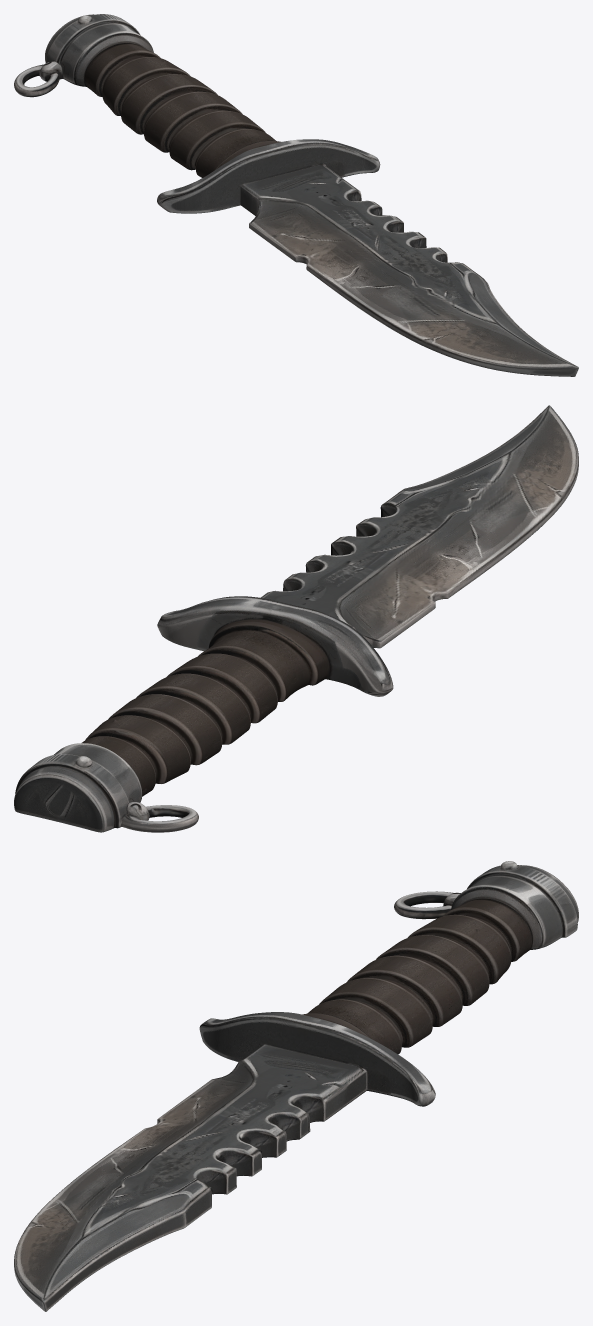
The model's file is CombatBlade.glb.
3 renders of one model, top to bottom at view 1: azimuth 30°, elevation 25°; view 2: azimuth 150°, elevation 25°; view 3: azimuth 330°, elevation 25°, orthographic. The views are drawn at different scales.
Size of the model in its own units: 0.5019 by 0.1113 by 1.91.
Materials: 1 (1 with a texture image).
